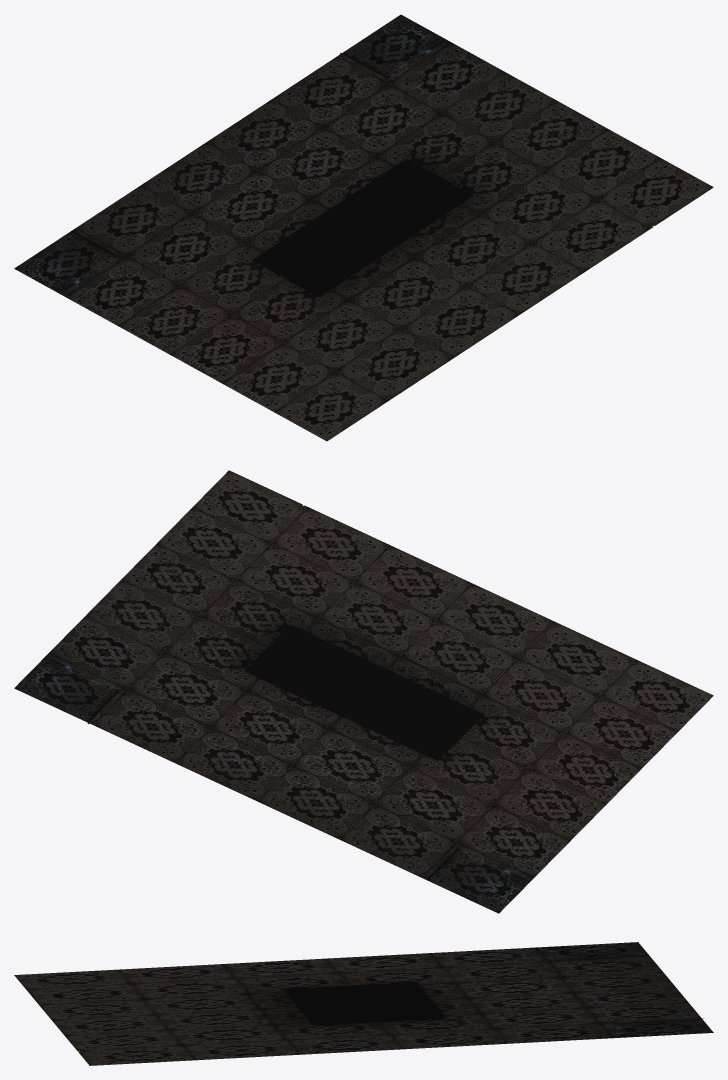
File: AltarBaseDetail.obj
The picture shows the model from 3 angles, top to bottom: view 1: azimuth 30°, elevation 25°; view 2: azimuth 150°, elevation 25°; view 3: azimuth 270°, elevation 25°; orthographic projection. The views are drawn at different scales.
Visible parts, largest first — view 1: Plane.000_1; view 2: Plane.000_1; view 3: Plane.000_1.
Part boxes in pixels (x1,y1,x2,y2): Plane.000_1: [14, 14, 713, 441]; Plane.000_1: [14, 470, 713, 913]; Plane.000_1: [14, 942, 713, 1065].
Bounding box in the file's own units: 5.9 × 1.55 × 6.18.
